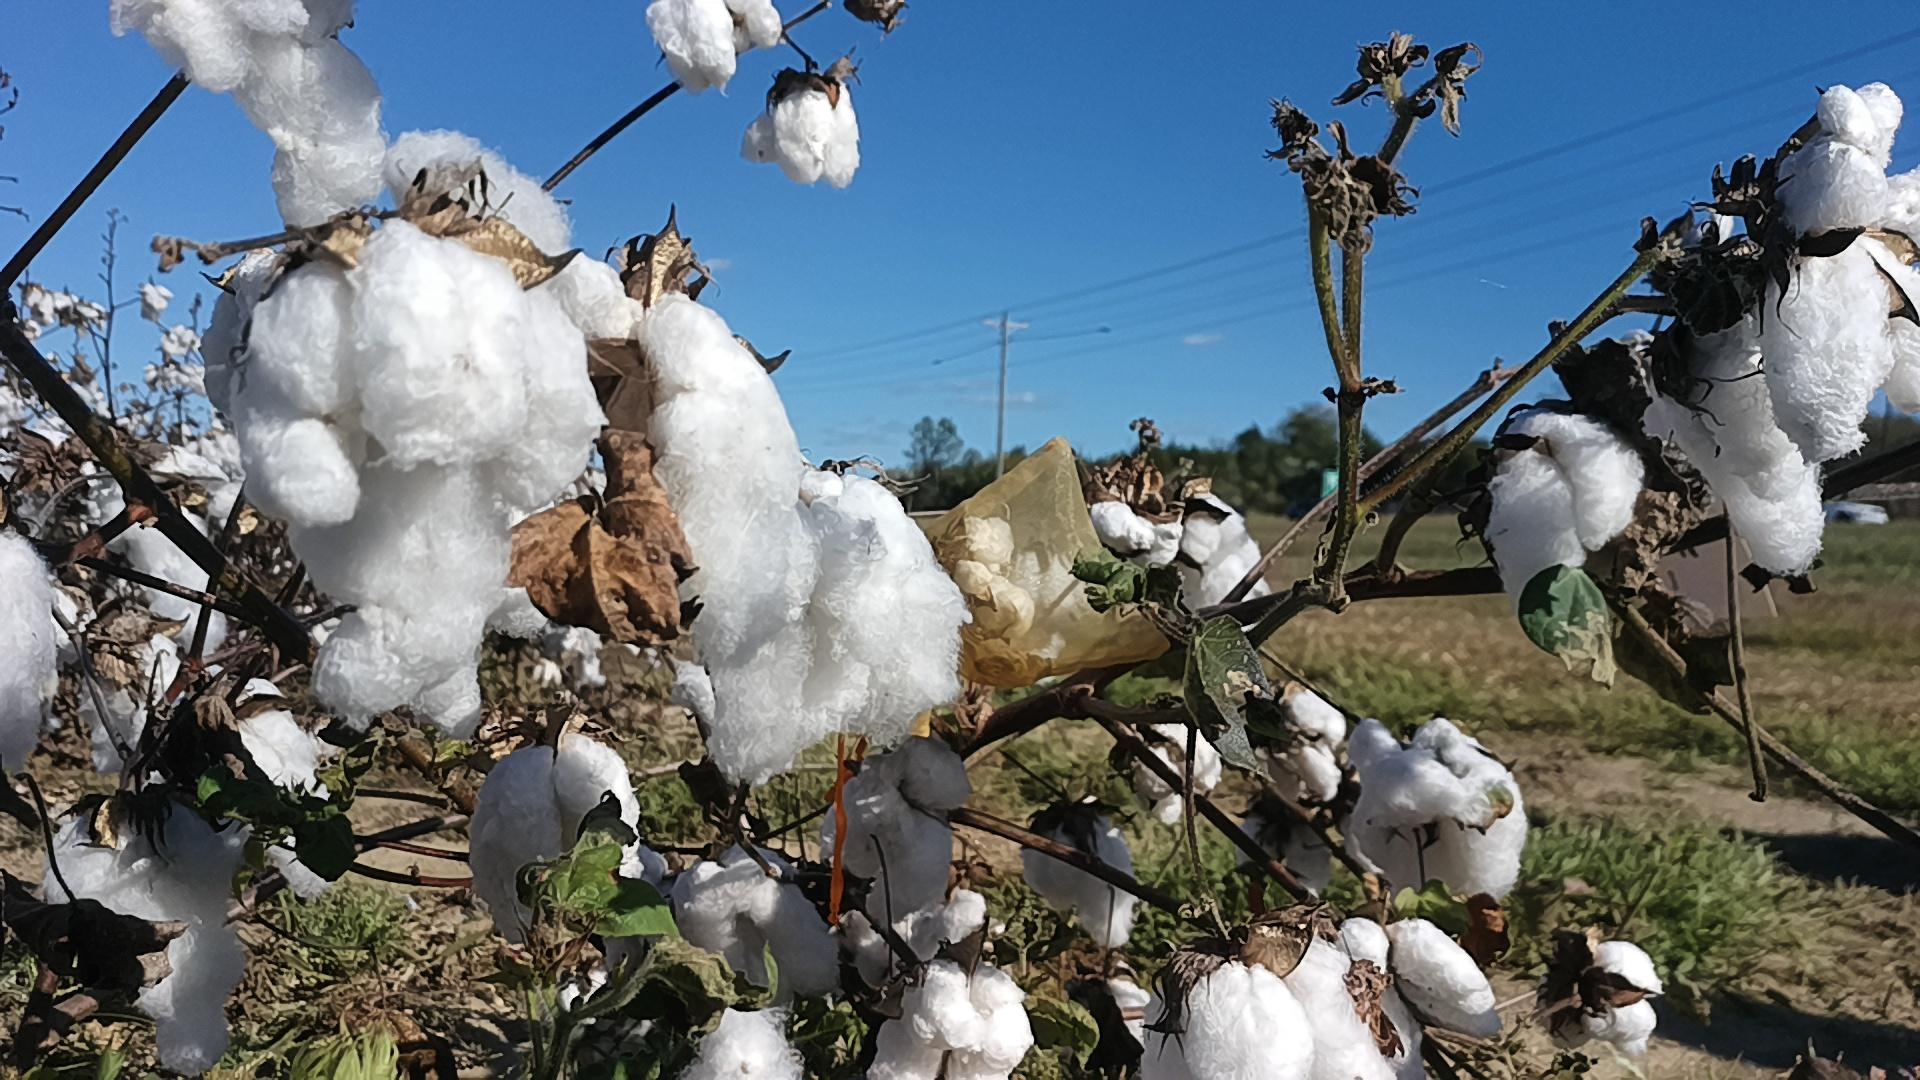cotton_ready: (202, 225, 596, 731), (542, 256, 798, 665), (682, 471, 968, 779), (105, 0, 385, 237), (40, 808, 240, 1080), (1758, 141, 1920, 467), (1642, 315, 1828, 579), (472, 736, 646, 944), (1286, 915, 1495, 1080), (1350, 723, 1528, 907), (390, 131, 578, 295), (1487, 413, 1643, 611), (820, 733, 973, 920), (675, 856, 848, 1005), (150, 675, 320, 820), (1142, 963, 1313, 1080), (868, 960, 1029, 1080), (102, 498, 223, 653), (1023, 815, 1143, 951), (848, 884, 1007, 985), (80, 629, 182, 775), (0, 526, 58, 779), (646, 0, 783, 100), (1176, 485, 1269, 633), (742, 86, 861, 191), (1116, 725, 1228, 827), (1263, 691, 1348, 807), (1232, 806, 1338, 893), (1576, 945, 1658, 1052), (686, 1009, 800, 1080), (960, 516, 1031, 629), (1088, 501, 1184, 574), (1817, 86, 1898, 169)
